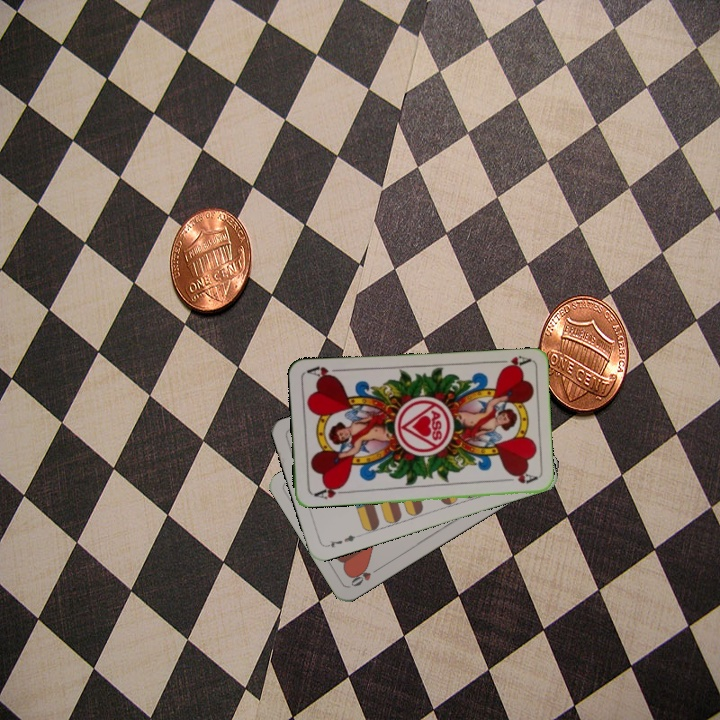E7: (322, 531, 362, 550)
HA: (310, 481, 350, 502), (491, 352, 532, 372)
HO: (347, 563, 383, 589)
